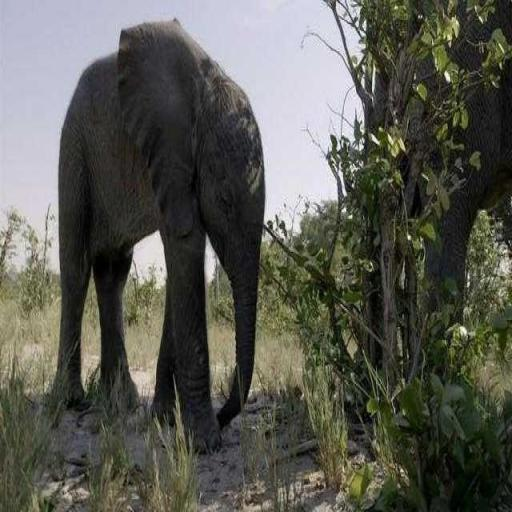Elephant: (50, 15, 266, 455)
